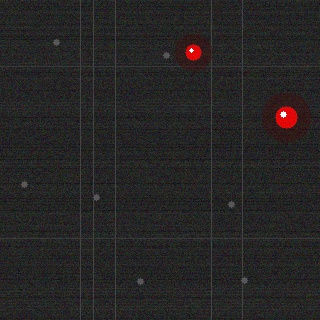red_fault: (273, 104, 299, 130), (183, 42, 203, 62)
